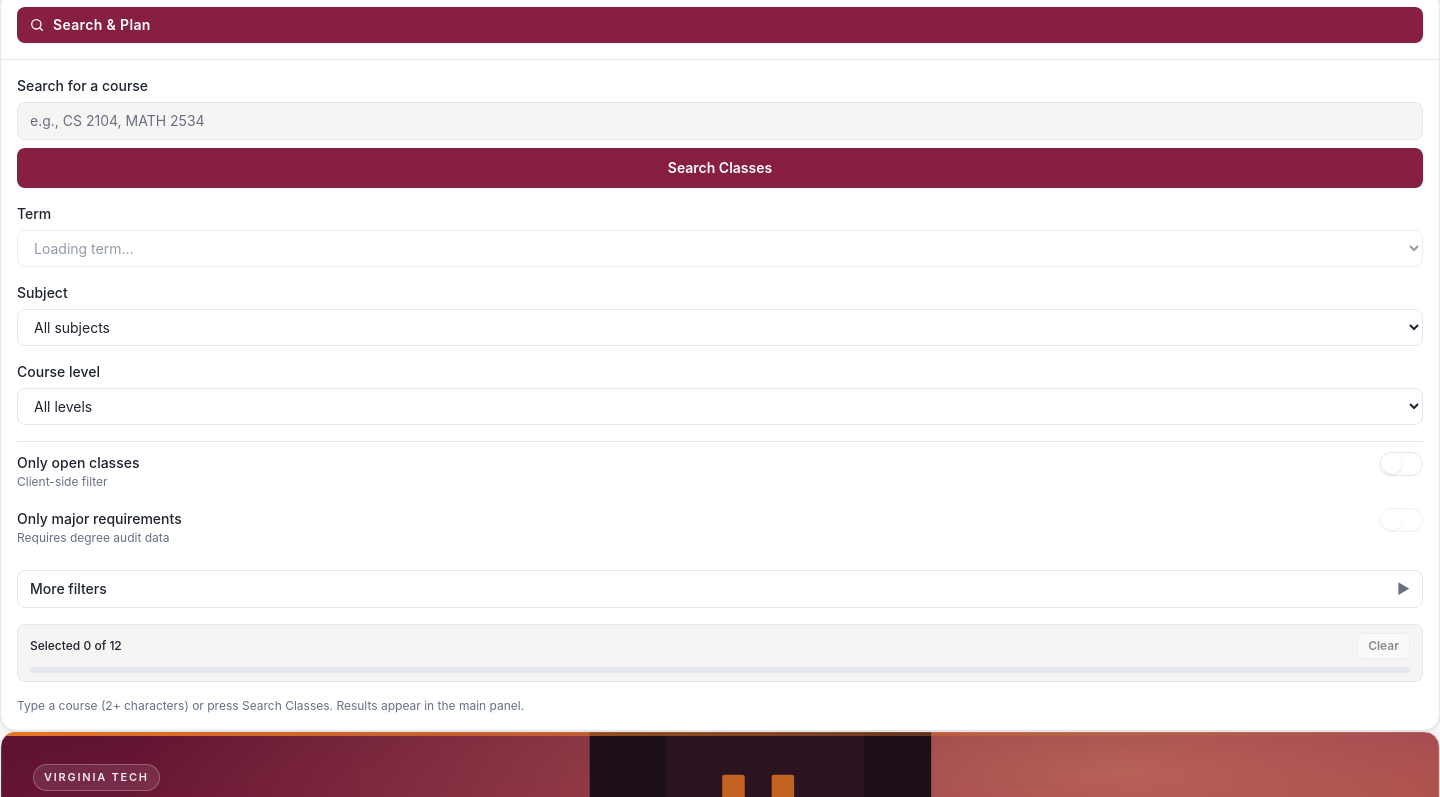
CenterPanel › can add a section straight from the center panel
Click the button "Search Classes" at (720, 168), box left=17, top=148, right=1423, bottom=188
(page scrolled)
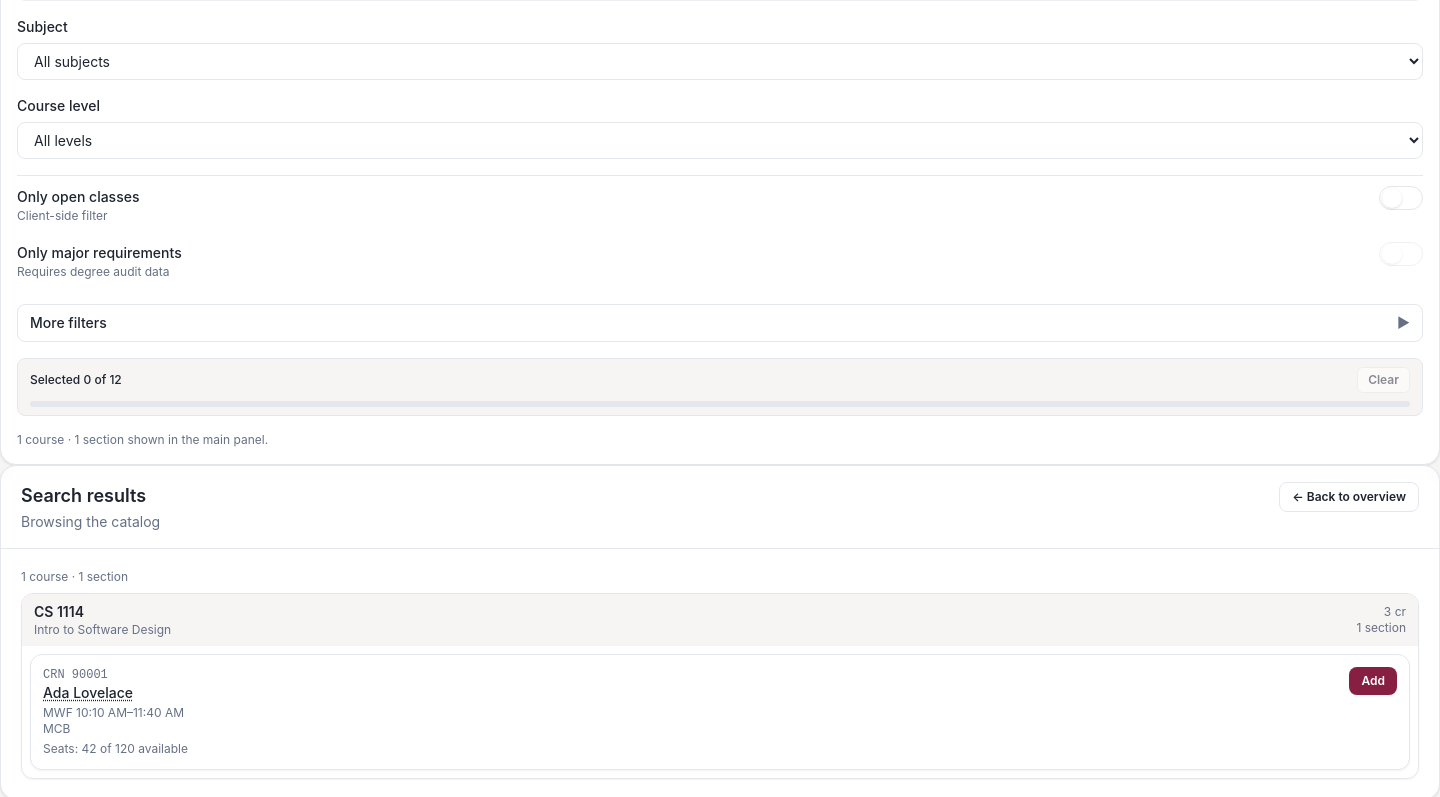
Click the button with aria-label "add section 90001" at (1373, 681), box left=1350, top=667, right=1397, bottom=695
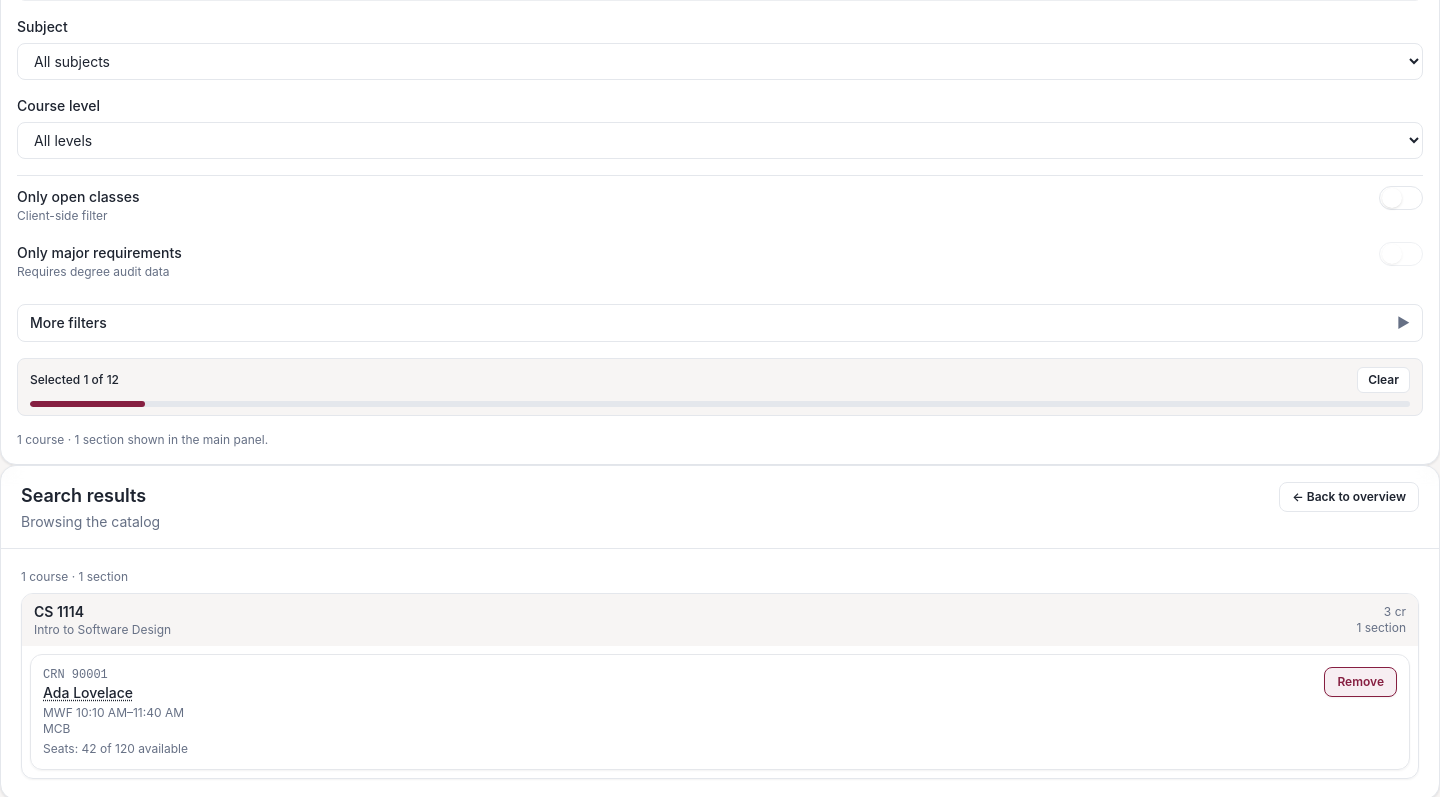
Check: the button with aria-label "remove section 90001" is shown, box left=1324, top=667, right=1397, bottom=697
